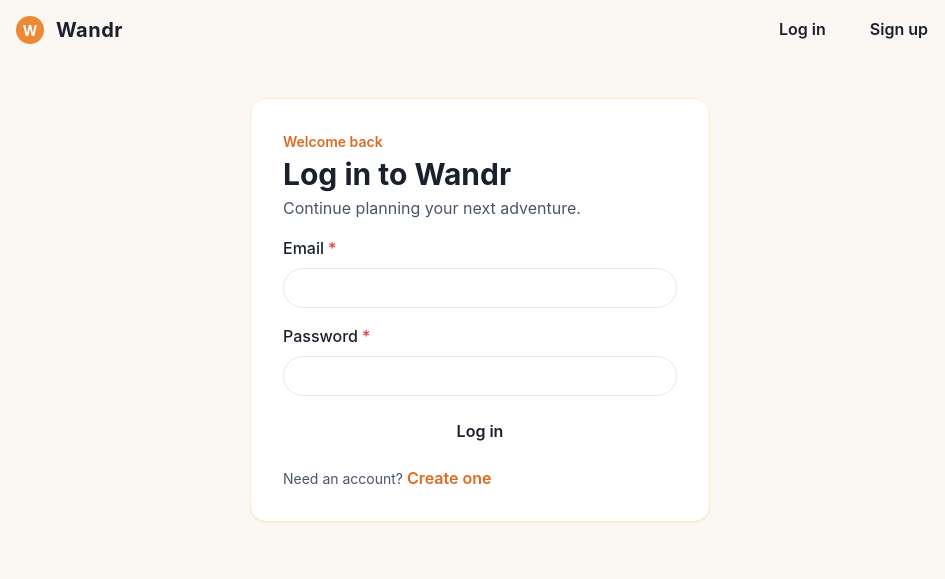
Test: auth pages › shows login error from API
Type "test@example.com" into the field labelled "Email*" at {"x": 480, "y": 288}, box [283, 268, 677, 308]
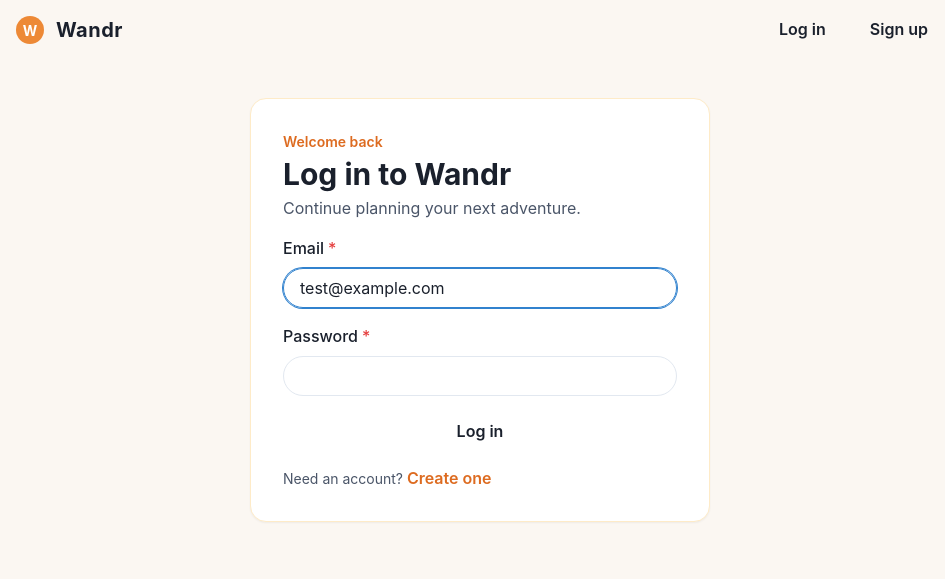
Type "wrong" into the password field labelled "Password*" at {"x": 480, "y": 376}, box [283, 356, 677, 396]
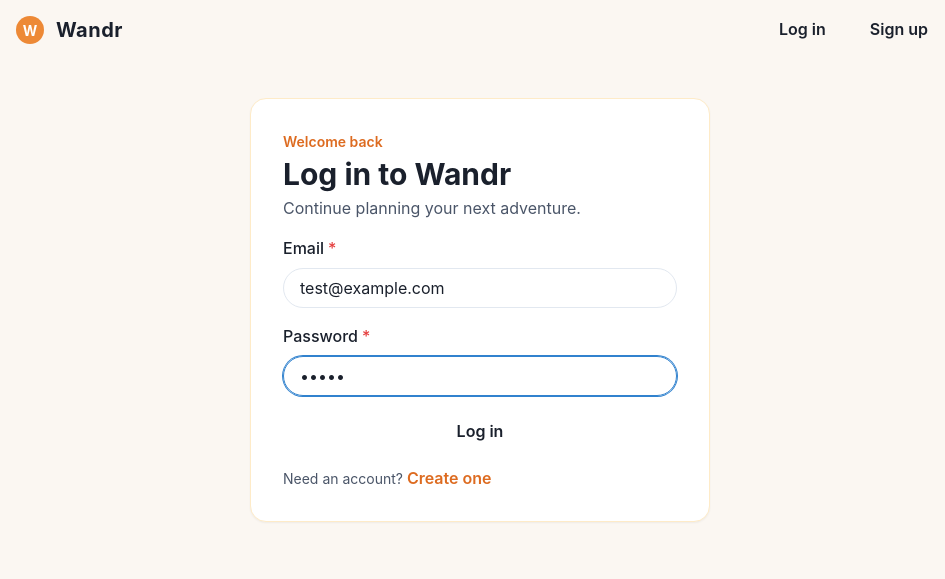
Click the button "Log in" at {"x": 480, "y": 432}, box [283, 412, 677, 452]
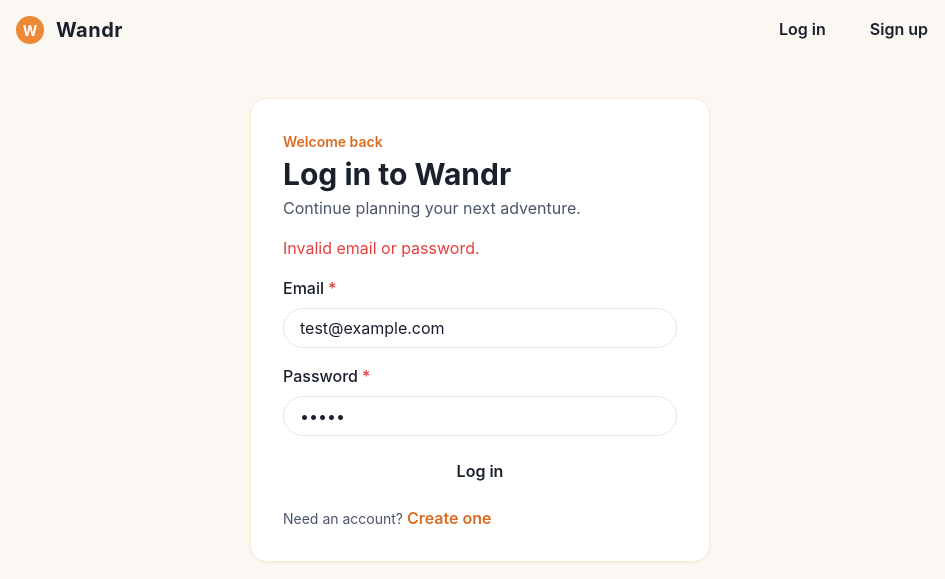
Expected: the text "Invalid email or password." is shown, [283, 238, 480, 258]
